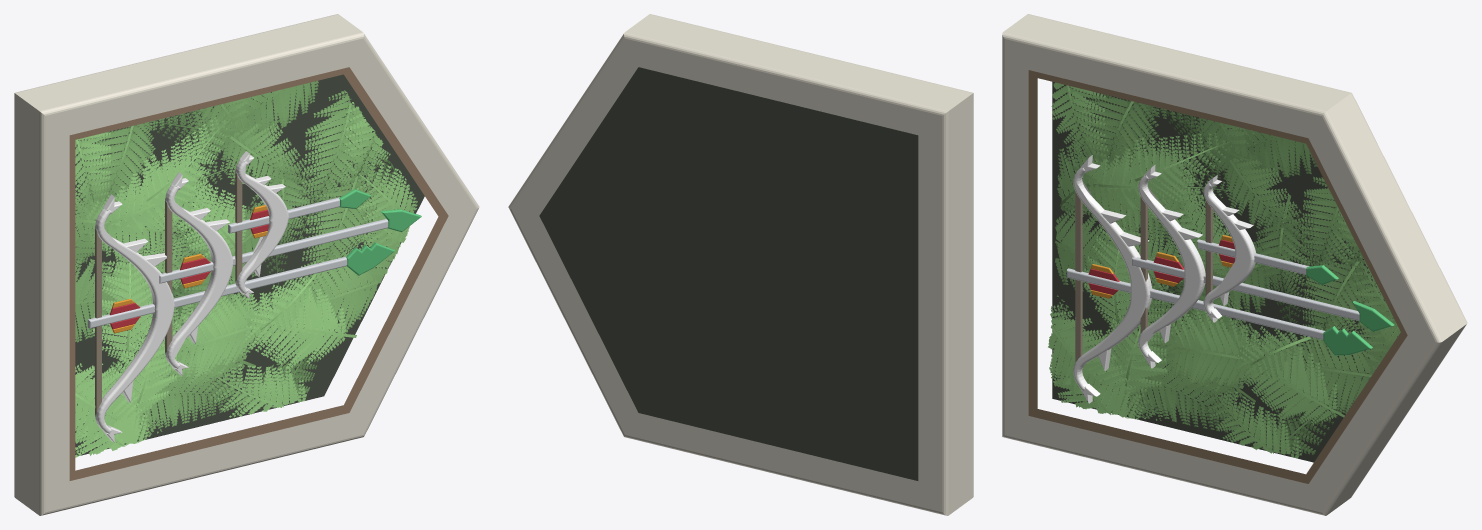
Rendered from ssarith.glb.
3 views of the same model, side by side, from view 1: azimuth 30°, elevation 25°; view 2: azimuth 150°, elevation 25°; view 3: azimuth 330°, elevation 25° (orthographic).
Visible parts, largest first — view 1: emblem_ssarith; view 2: emblem_ssarith; view 3: emblem_ssarith.
Boxes of the visible parts, x1,y1,x2,y2 form: emblem_ssarith: (14, 14, 479, 515); emblem_ssarith: (508, 14, 973, 515); emblem_ssarith: (1002, 14, 1467, 515).
Bounding box in the file's own units: 1.05 × 0.92 × 0.1196.
